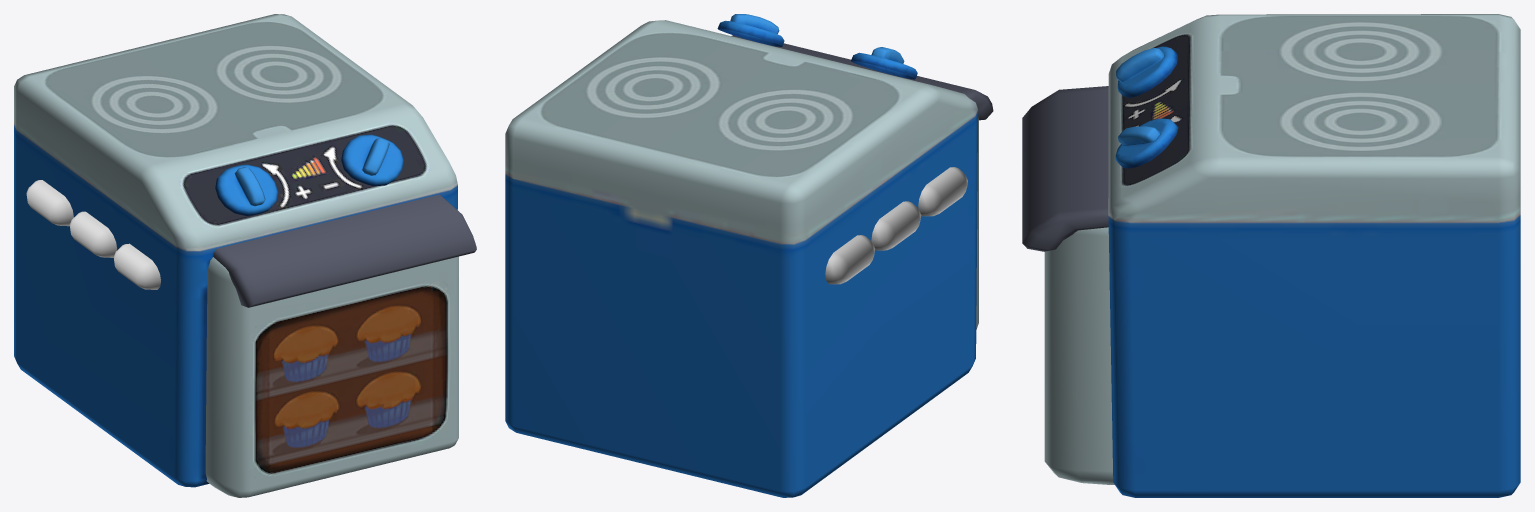
File: oven.fbx
3 views of the same model, side by side, from view 1: azimuth 30°, elevation 25°; view 2: azimuth 150°, elevation 25°; view 3: azimuth 270°, elevation 25° (orthographic). The views are drawn at different scales.
Parts seen in each view (by area): view 1: oven; view 2: oven; view 3: oven.
Part boxes in pixels (box(x1,y1,x2,y2)): oven: box(14, 14, 476, 497); oven: box(505, 14, 993, 497); oven: box(1022, 14, 1520, 497).
Size of the model in its own units: 80.38 by 77.4 by 102.
